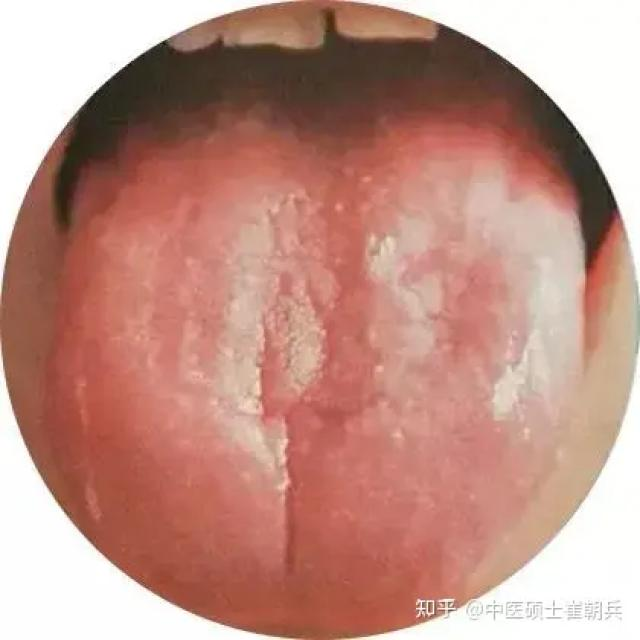tongue: (52, 94, 594, 580)
